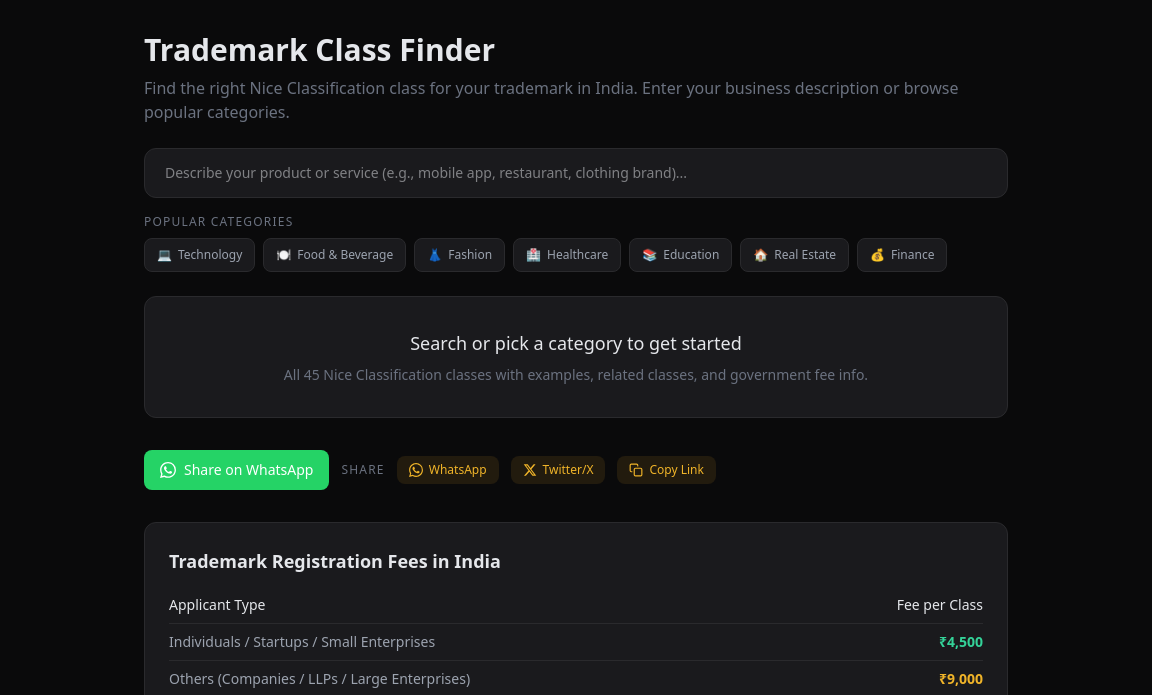
Test: TrademarkClassFinder › filters by popular category when clicked
Click the button "💻 Technology" at point(200, 255), box [144, 238, 255, 272]
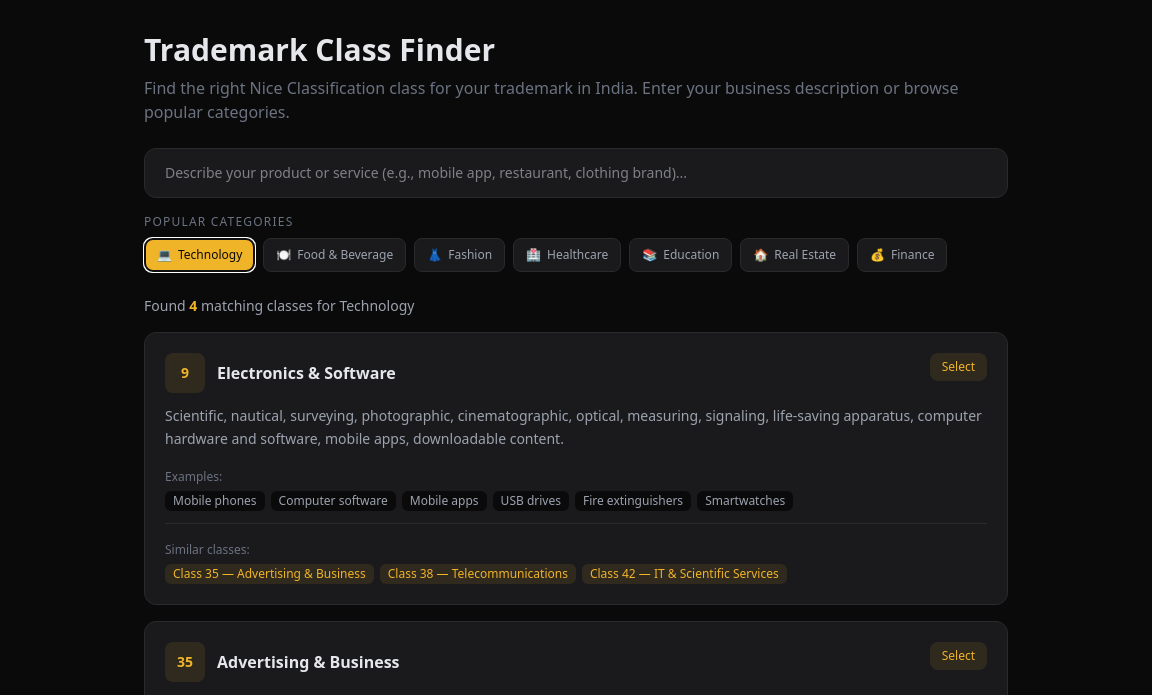
expect the heading "Electronics & Software" is shown: met, box [217, 361, 396, 385]
expect the text "Class 35 — Advertising & Business" is shown: met, box [165, 564, 374, 584]
expect the text "Class 42 — IT & Scientific Services" is shown: met, box [582, 564, 787, 584]
